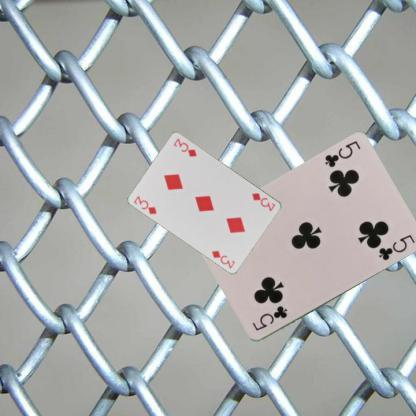3d: (249, 190, 276, 213), (132, 193, 158, 216)
5c: (322, 138, 362, 169), (250, 303, 288, 332)
